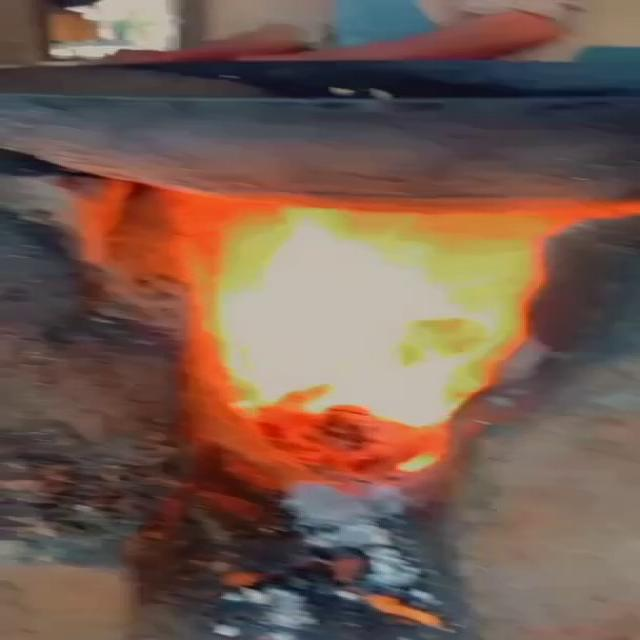Fire: (204, 215, 524, 429)
